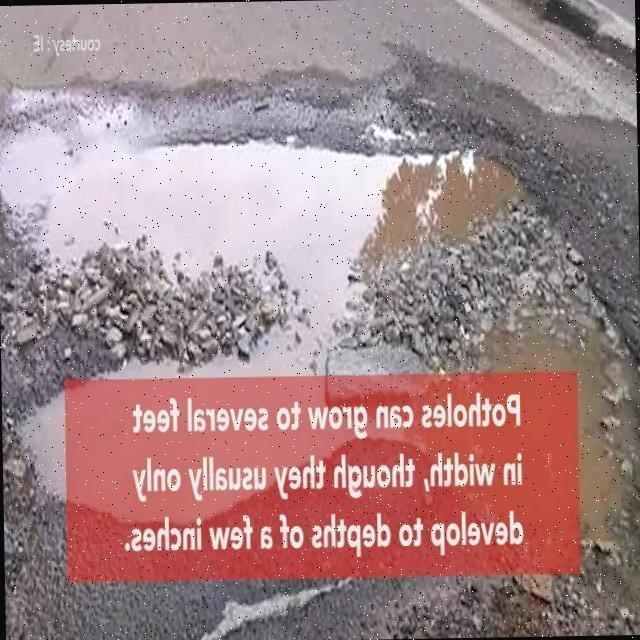pothole: (38, 137, 632, 554)
